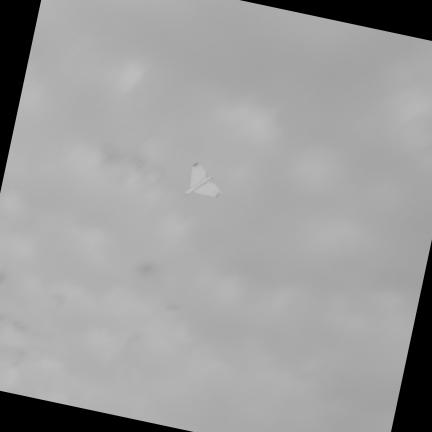Shahed: (186, 162, 222, 197)
